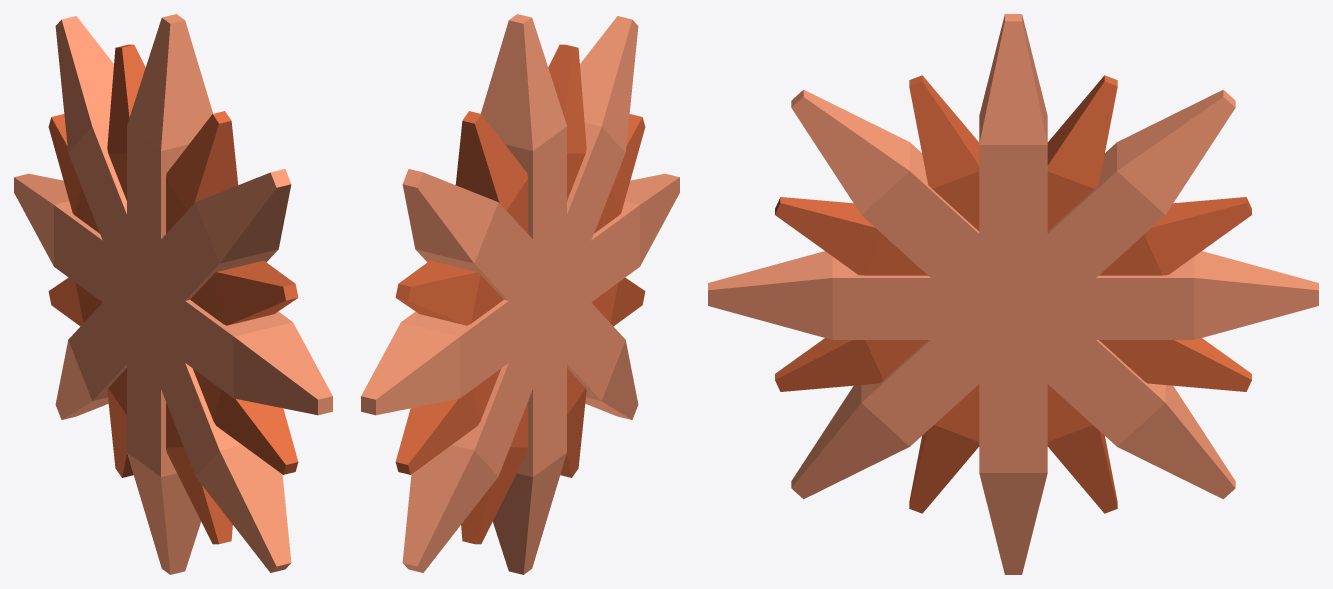
The model's file is sunPickup.fbx.
The picture shows the model from 3 angles, left to right: view 1: azimuth 30°, elevation 25°; view 2: azimuth 150°, elevation 25°; view 3: azimuth 270°, elevation 25°; orthographic projection.
Parts seen in each view (by area): view 1: Sun; view 2: Sun; view 3: Sun.
Boxes of the visible parts, <box> form: Sun: <box>14,14,332,574</box>; Sun: <box>361,14,679,574</box>; Sun: <box>708,14,1318,574</box>.
Size of the model in its own units: 25.71 by 229 by 229.
